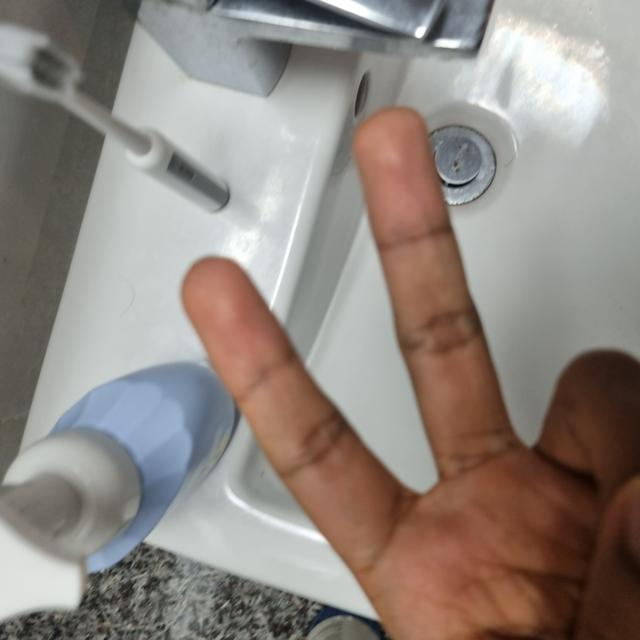Scissors: (1, 181, 529, 638)
